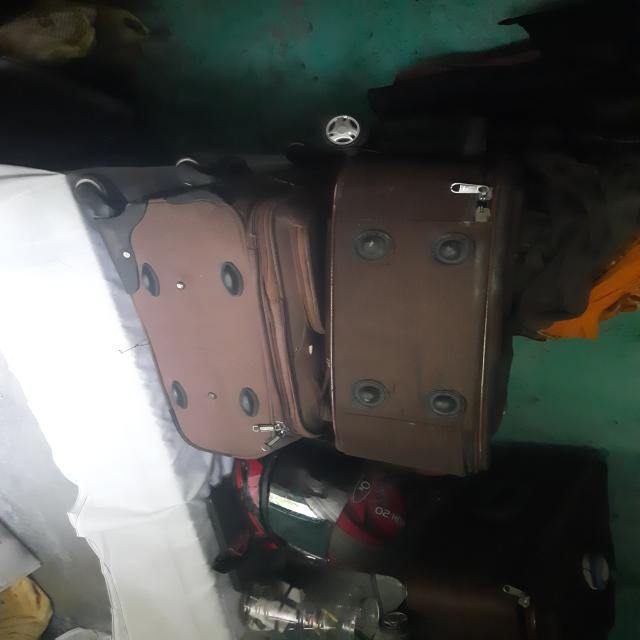suitcaserotation: (66, 134, 329, 466), (315, 104, 536, 483)
